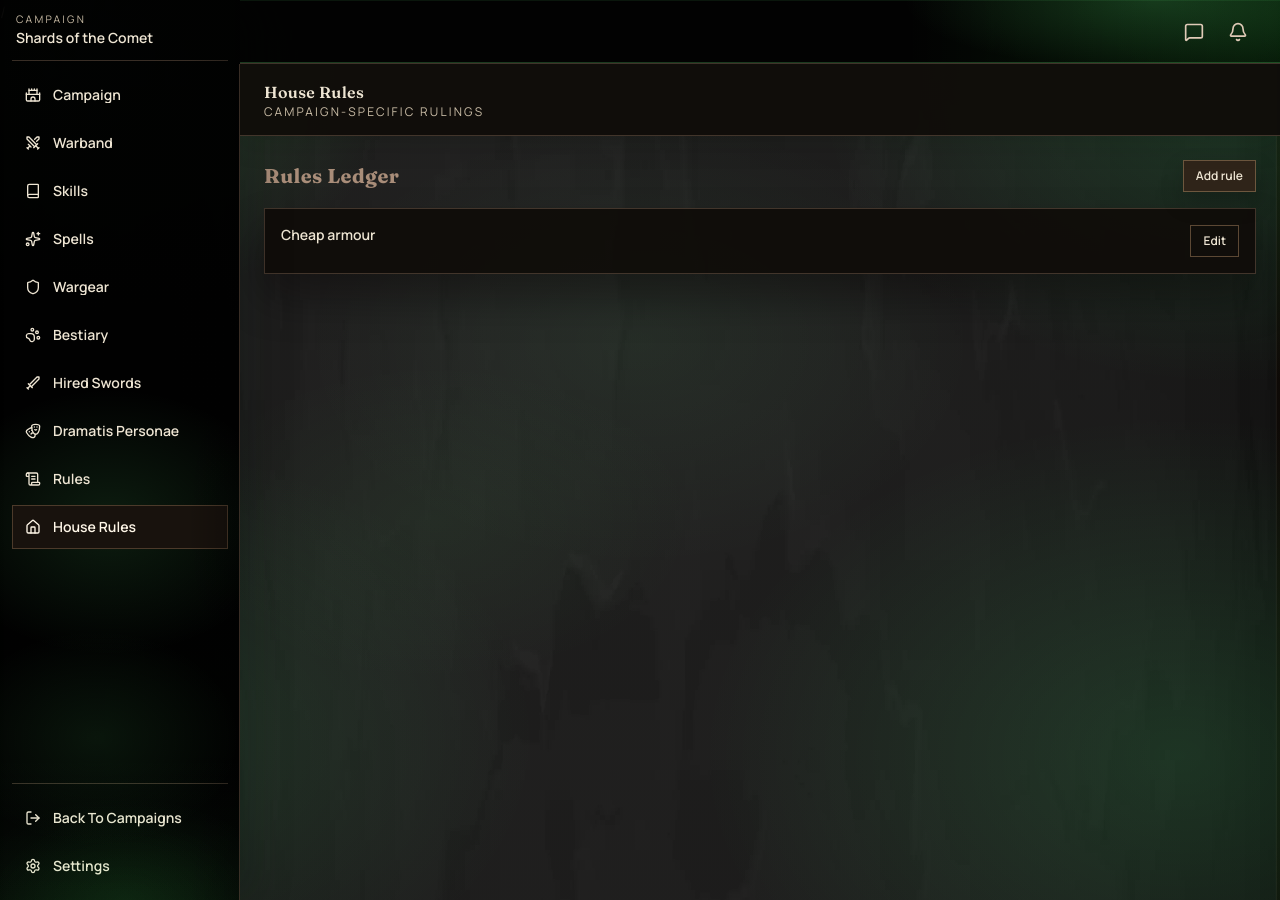
Test: Common Rules › lists a rule the server already had (answered with the existing rule) once
The image size is (1280, 900).
Expected: the text "Cheap armour" is shown, [281,225,376,245]
Click the button "Add rule" at x=1219, y=176, box [1183,160,1256,192]
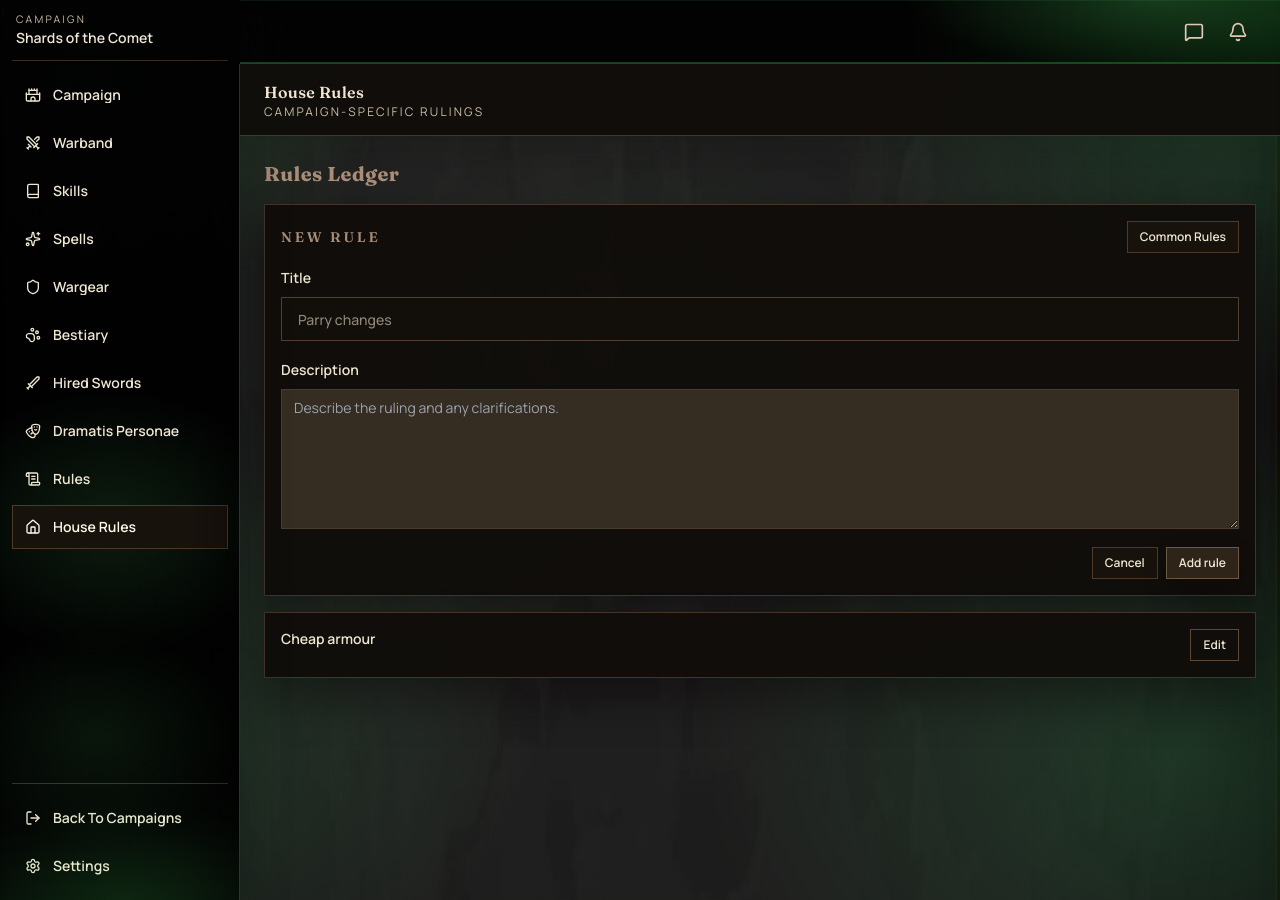
Click the button "Common Rules" at x=1183, y=237, box [1127,221,1239,253]
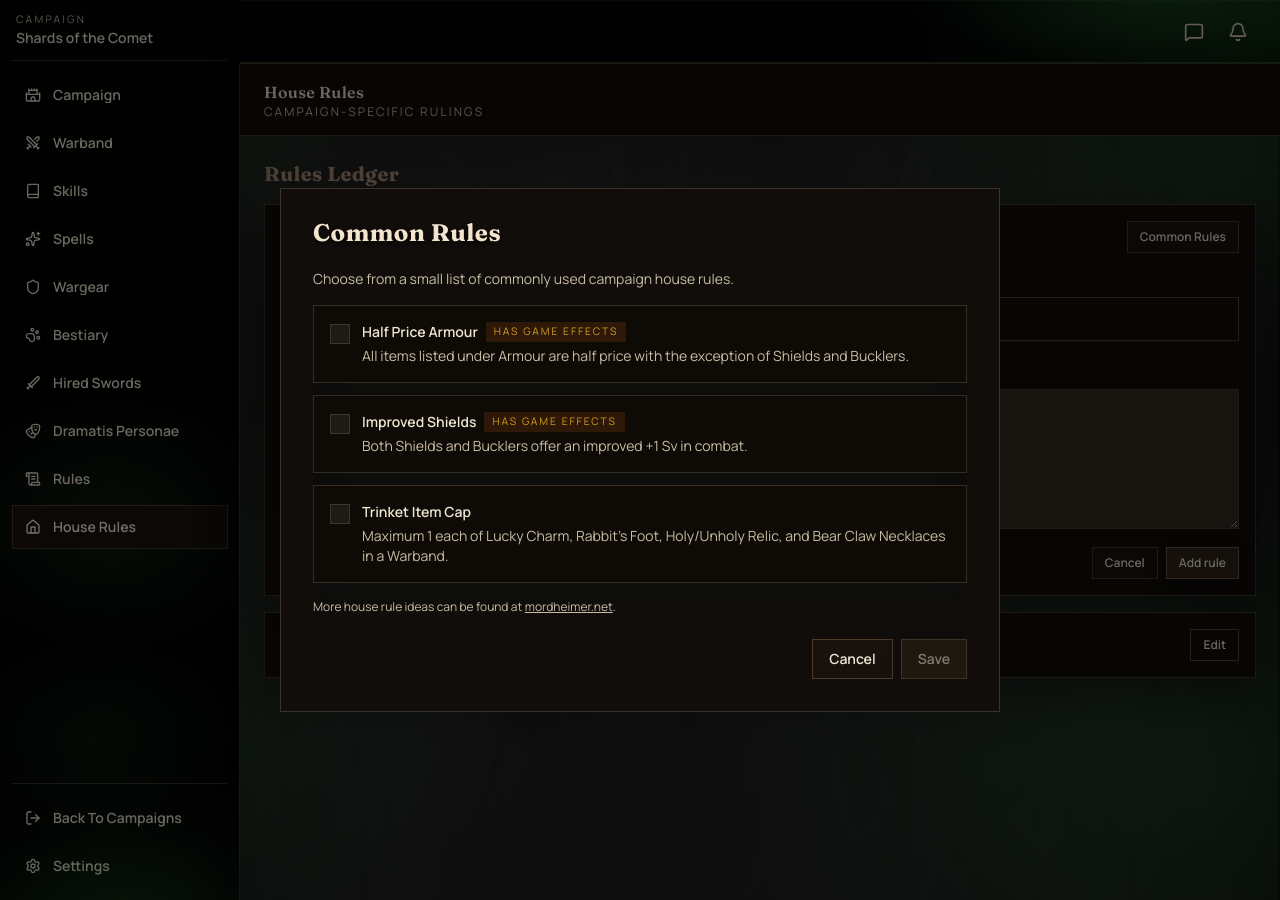
Click the checkbox labelled "Half Price Armour" at x=640, y=344, box [313,305,967,383]
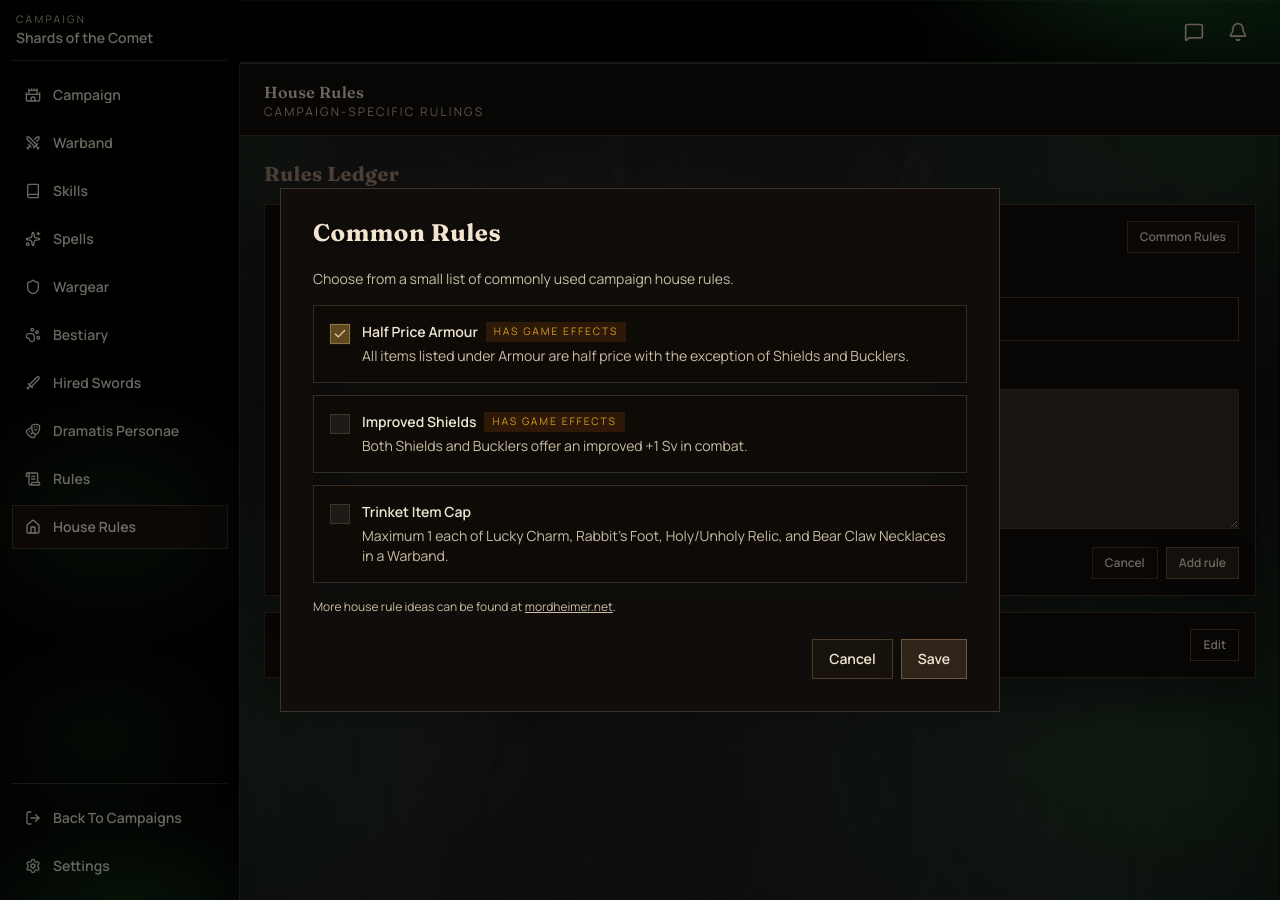
Click the button "Save" at x=934, y=659, box [901,639,967,679]
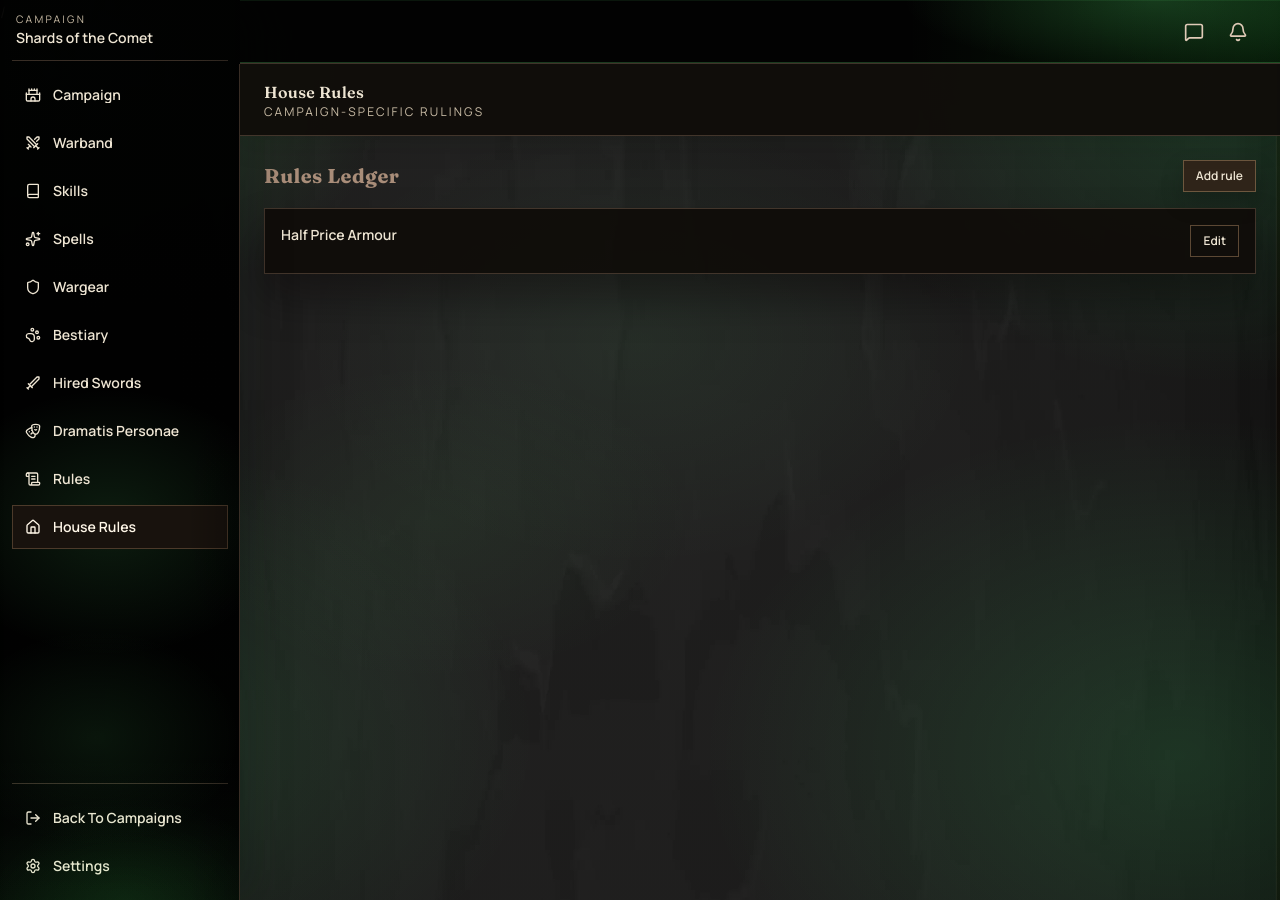
Expected: the dialog is gone
Expected: the text "Half Price Armour" is shown once, [281,225,397,245]
Expected: the text "Cheap armour" is gone
